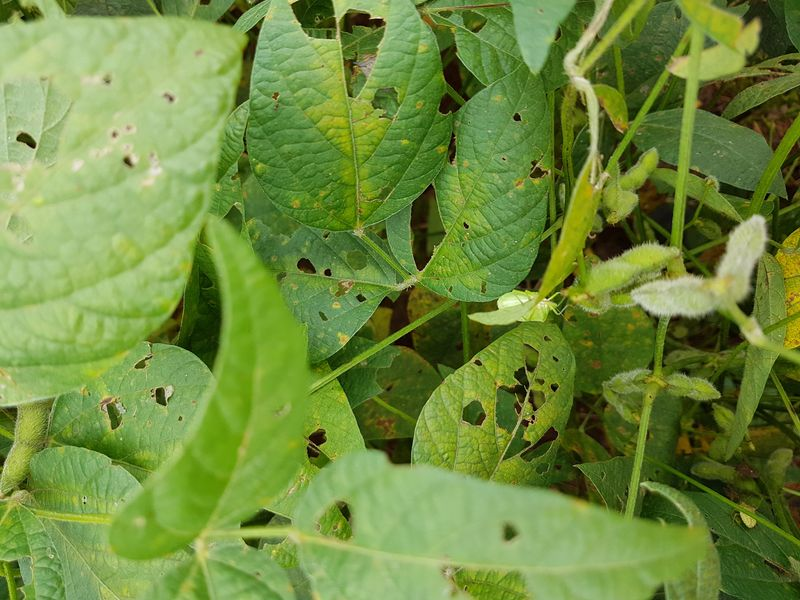Euschistus_heros_ninfa: (729, 497, 764, 531)
Nezara_viridula_adulto: (487, 275, 578, 340)
